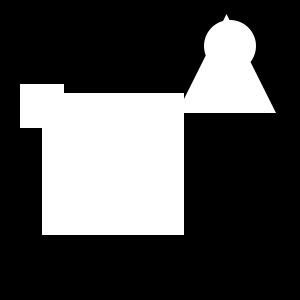circle: (42, 93, 184, 235), (20, 84, 64, 128)
rectangle: (204, 20, 256, 72)
triangle: (177, 14, 276, 113)
